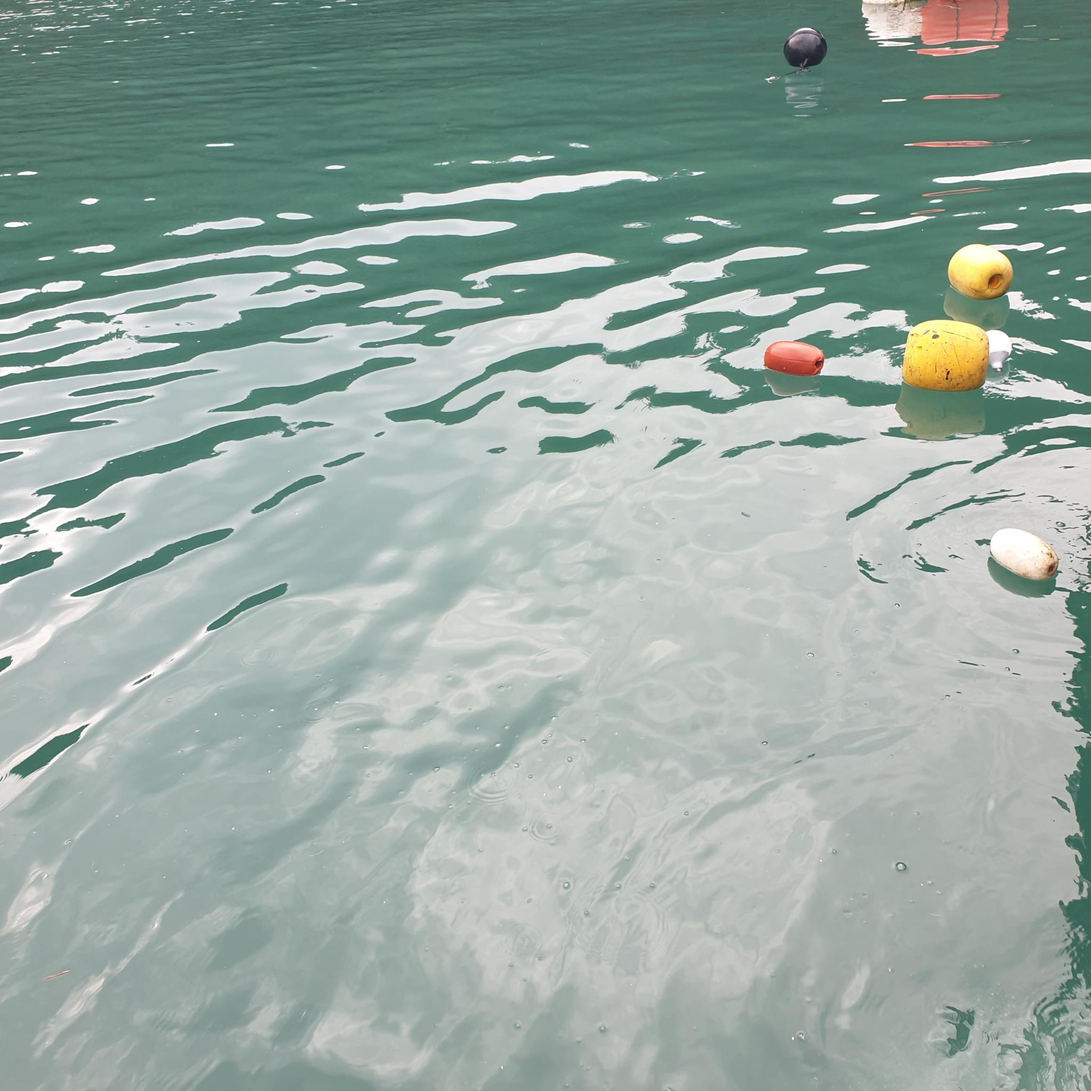sampah_terapung: (902, 320, 990, 392), (948, 244, 1014, 300), (990, 528, 1059, 581), (765, 341, 825, 377), (784, 27, 828, 68), (986, 331, 1012, 373), (765, 69, 811, 84)
